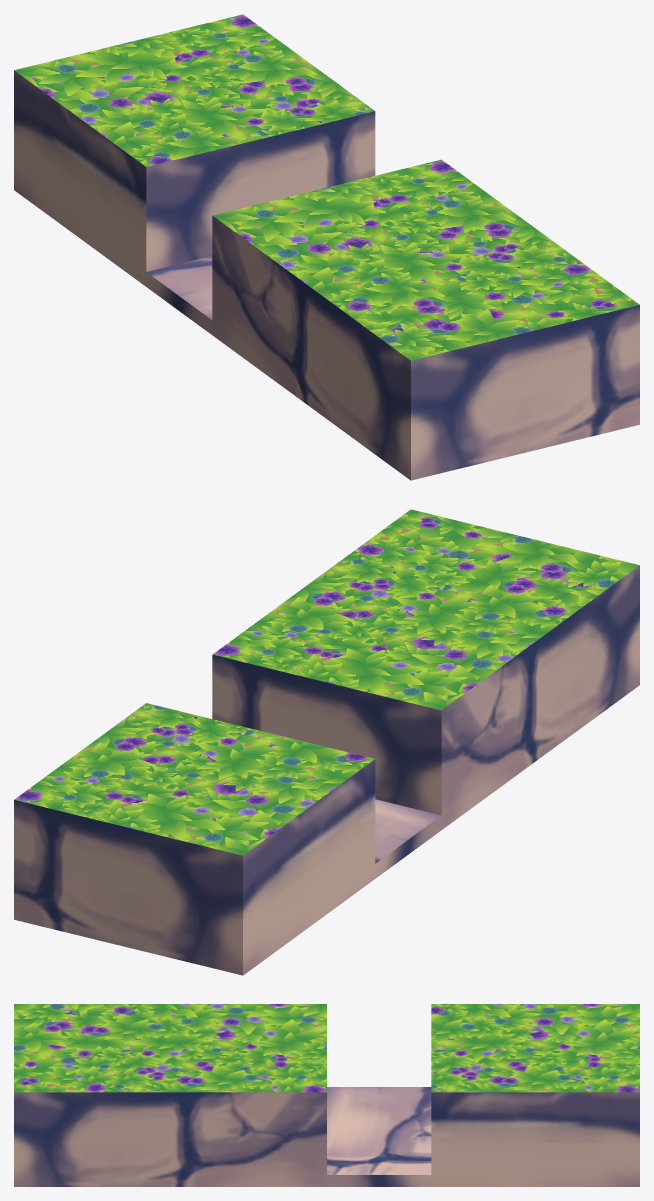
File: block_14.fbx
3 views of the same model, one above another, from view 1: azimuth 30°, elevation 25°; view 2: azimuth 150°, elevation 25°; view 3: azimuth 270°, elevation 25° (orthographic). The views are drawn at different scales.
Parts seen in each view (by area): view 1: Block_14; view 2: Block_14; view 3: Block_14.
Boxes of the visible parts, <box> form: Block_14: <box>14,14,639,480</box>; Block_14: <box>14,509,639,975</box>; Block_14: <box>14,1004,639,1186</box>.
Bounding box in the file's own units: 400 × 200 × 1200.
2 materials, 2 textured.
